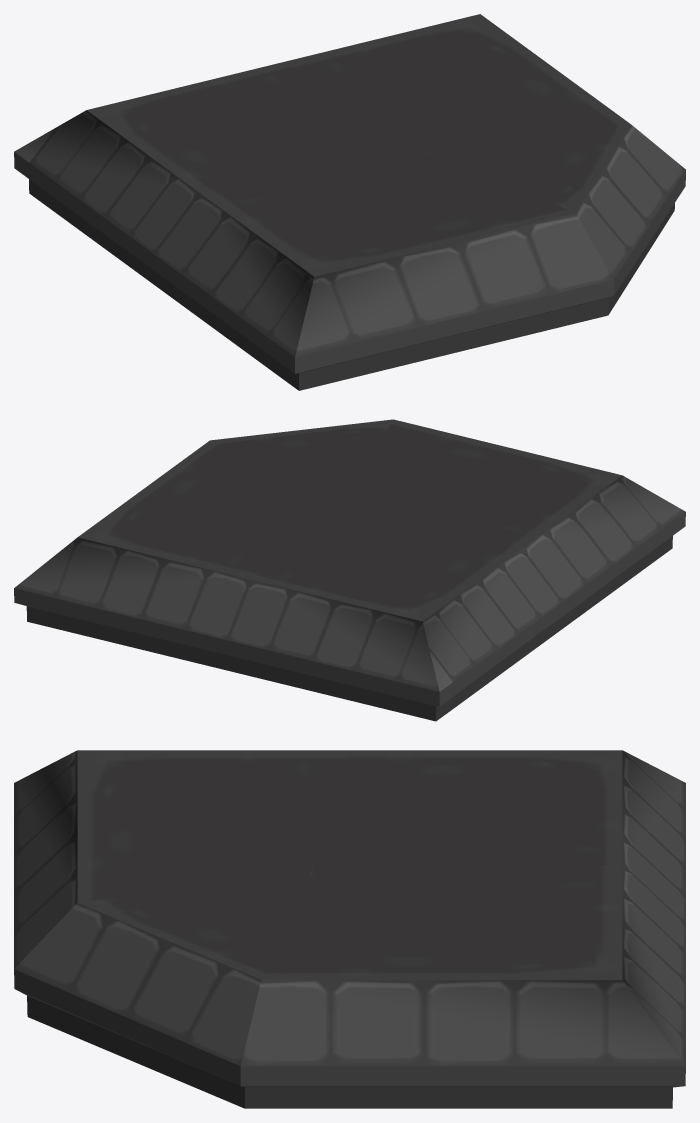
The model's file is RoofTop_D08.fbx.
3 renders of one model, top to bottom at view 1: azimuth 30°, elevation 25°; view 2: azimuth 150°, elevation 25°; view 3: azimuth 270°, elevation 25°, orthographic. The views are drawn at different scales.
Parts seen in each view (by area): view 1: RoofTop_D08; view 2: RoofTop_D08; view 3: RoofTop_D08.
Part boxes in pixels (x1,y1,x2,y2): RoofTop_D08: (14, 14, 685, 390); RoofTop_D08: (14, 419, 685, 721); RoofTop_D08: (14, 750, 685, 1108).
Bounding box in the file's own units: 251 × 44.42 × 252.
1 material, 1 textured.
